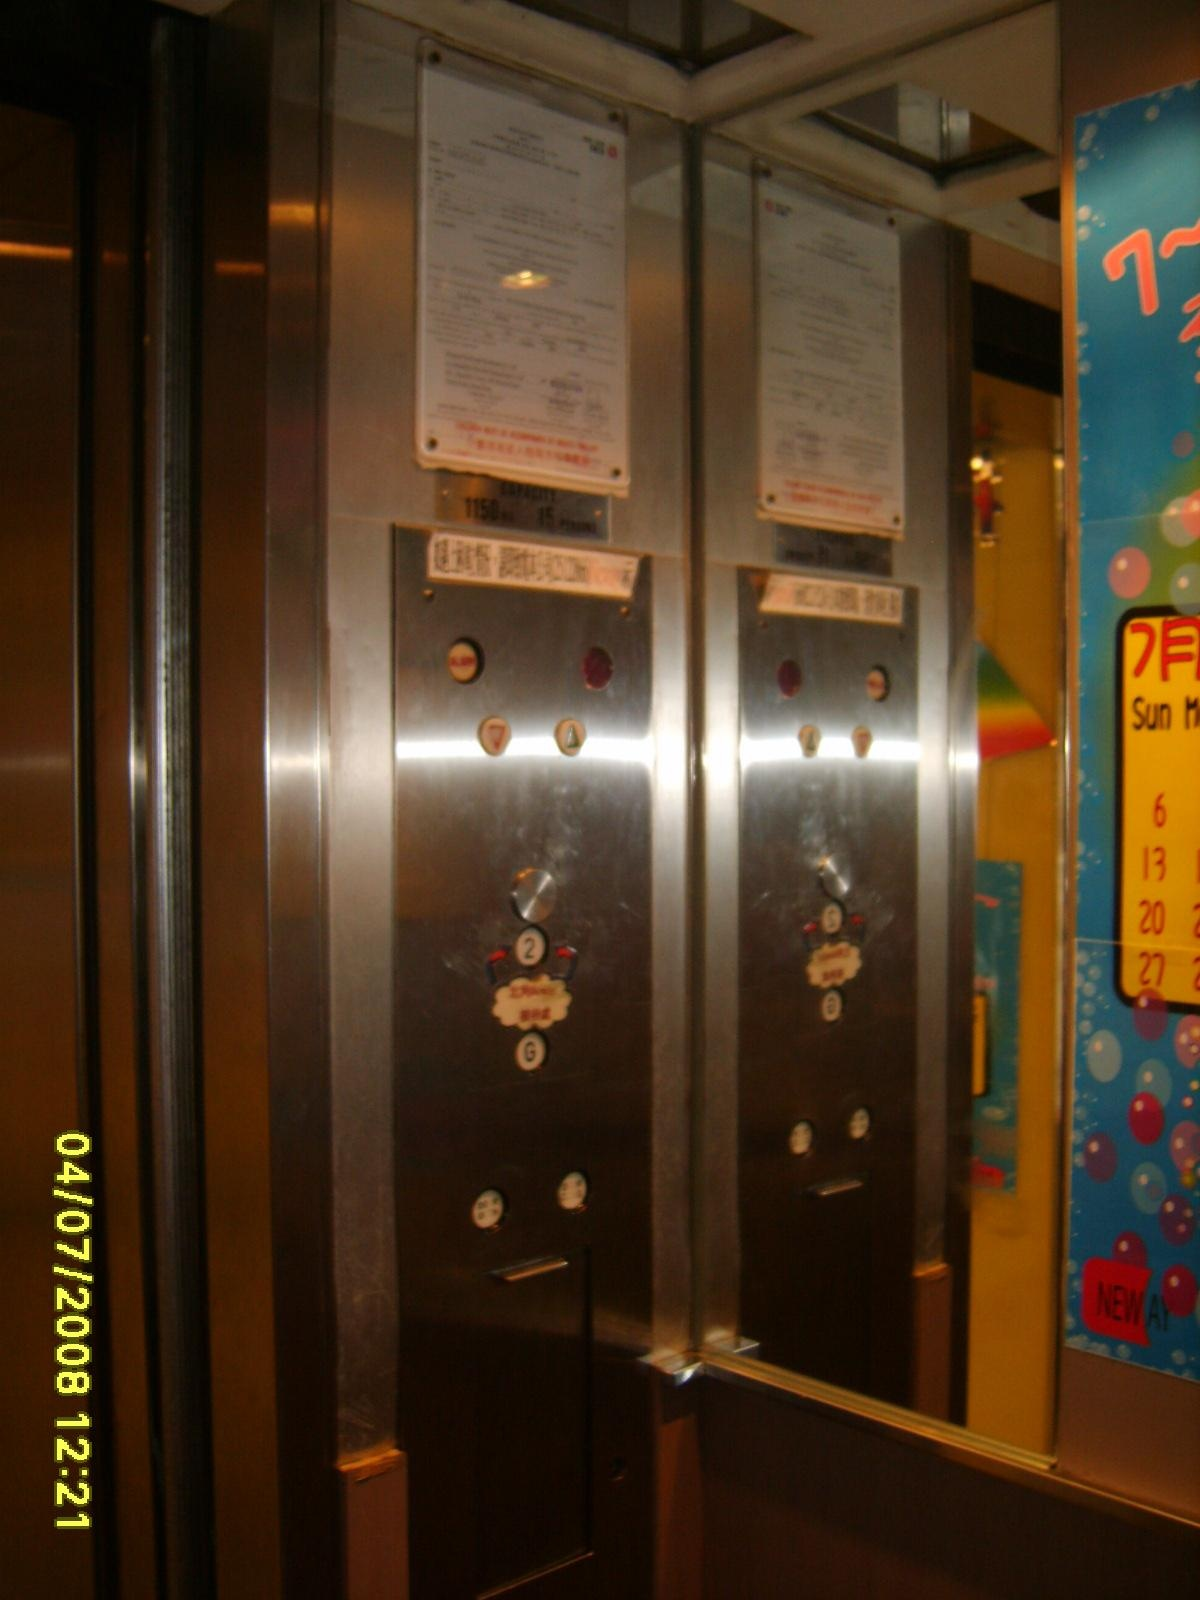2: (508, 923, 553, 973)
G: (508, 1026, 552, 1078)
blur: (440, 632, 487, 687), (550, 1168, 595, 1218), (463, 1186, 507, 1235), (780, 1112, 821, 1162), (839, 1099, 877, 1148), (860, 661, 895, 708)
down: (476, 713, 516, 760)
empty: (505, 862, 563, 925), (574, 641, 621, 695), (816, 847, 861, 897), (770, 655, 808, 703)
unknown: (814, 988, 855, 1033), (813, 896, 850, 939)
up: (550, 714, 589, 761), (795, 719, 826, 763)
